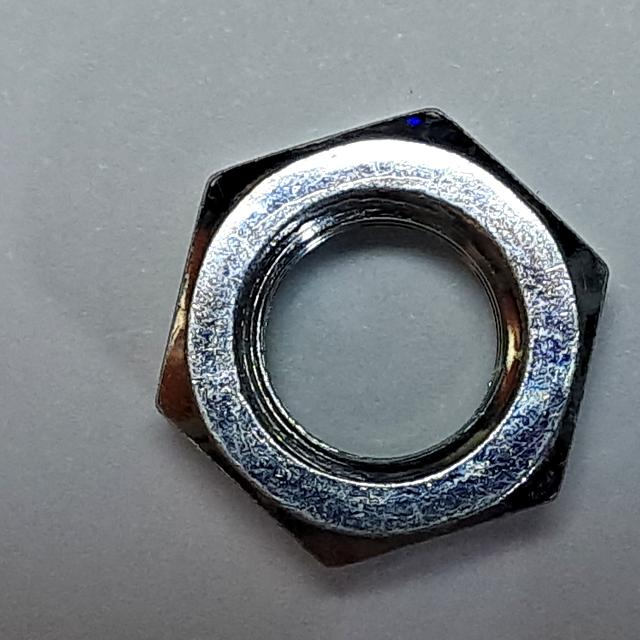Excellent: (145, 91, 620, 584)
